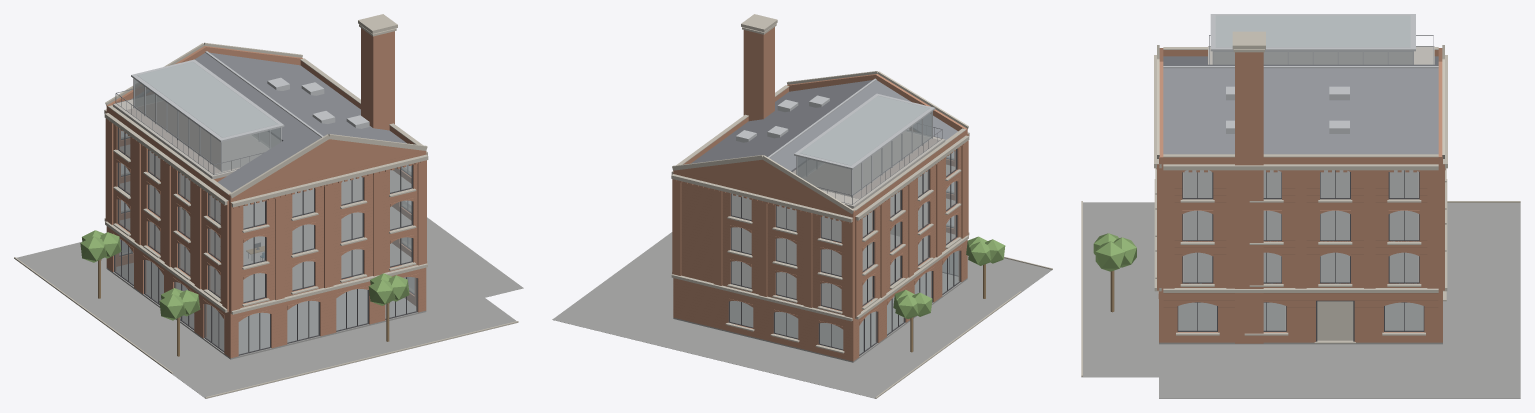
The model's file is clay-arched-mill-mixed-use-clay-v003.glb.
The picture shows the model from 3 angles, left to right: view 1: azimuth 30°, elevation 25°; view 2: azimuth 150°, elevation 25°; view 3: azimuth 270°, elevation 25°; orthographic projection. The views are drawn at different scales.
Parts seen in each view (by area): view 1: CLAY_WALL, CLAY_FOUNDATION, CLAY_GLASS, CLAY_FLOOR, CLAY_STONE, CLAY_ROOF, CLAY_METAL, CLAY_TRIM, CLAY_PLANTING, CLAY_CONCRETE, CLAY_HARDWARE, CLAY_TIMBER; view 2: CLAY_WALL, CLAY_FOUNDATION, CLAY_GLASS, CLAY_FLOOR, CLAY_STONE, CLAY_ROOF, CLAY_METAL, CLAY_TRIM, CLAY_PLANTING, CLAY_CONCRETE, CLAY_HARDWARE; view 3: CLAY_FOUNDATION, CLAY_WALL, CLAY_ROOF, CLAY_GLASS, CLAY_FLOOR, CLAY_STONE, CLAY_METAL, CLAY_TRIM, CLAY_PALE, CLAY_PLANTING, CLAY_JOINT, CLAY_CONCRETE.
Boxes of the visible parts, left/top/right/bottom form: CLAY_WALL: left=105, top=28, right=426, bottom=358; CLAY_FOUNDATION: left=14, top=201, right=523, bottom=398; CLAY_GLASS: left=115, top=62, right=416, bottom=354; CLAY_FLOOR: left=120, top=101, right=411, bottom=301; CLAY_STONE: left=14, top=14, right=518, bottom=398; CLAY_ROOF: left=131, top=52, right=406, bottom=192; CLAY_METAL: left=131, top=51, right=369, bottom=172; CLAY_TRIM: left=114, top=128, right=417, bottom=355; CLAY_PLANTING: left=80, top=230, right=409, bottom=320; CLAY_CONCRETE: left=113, top=94, right=269, bottom=179; CLAY_HARDWARE: left=115, top=89, right=264, bottom=174; CLAY_TIMBER: left=98, top=208, right=389, bottom=356; CLAY_WALL: left=672, top=27, right=968, bottom=361; CLAY_FOUNDATION: left=552, top=232, right=1051, bottom=398; CLAY_GLASS: left=730, top=95, right=959, bottom=354; CLAY_FLOOR: left=731, top=131, right=955, bottom=309; CLAY_STONE: left=671, top=14, right=1052, bottom=398; CLAY_ROOF: left=691, top=80, right=957, bottom=171; CLAY_METAL: left=736, top=78, right=935, bottom=197; CLAY_TRIM: left=728, top=149, right=960, bottom=355; CLAY_PLANTING: left=893, top=236, right=1005, bottom=318; CLAY_CONCRETE: left=802, top=131, right=945, bottom=208; CLAY_HARDWARE: left=815, top=123, right=942, bottom=204; CLAY_FOUNDATION: left=1081, top=202, right=1520, bottom=398; CLAY_WALL: left=1156, top=48, right=1445, bottom=343; CLAY_ROOF: left=1163, top=56, right=1438, bottom=154; CLAY_GLASS: left=1178, top=15, right=1423, bottom=330; CLAY_FLOOR: left=1183, top=52, right=1418, bottom=282; CLAY_STONE: left=1081, top=31, right=1520, bottom=376; CLAY_METAL: left=1163, top=14, right=1438, bottom=133; CLAY_TRIM: left=1177, top=170, right=1424, bottom=341; CLAY_PALE: left=1317, top=301, right=1353, bottom=340; CLAY_PLANTING: left=1093, top=233, right=1136, bottom=271; CLAY_JOINT: left=1164, top=188, right=1437, bottom=307; CLAY_CONCRETE: left=1208, top=46, right=1434, bottom=64.
Bounding box in the file's own units: 36 × 25.7 × 34.
